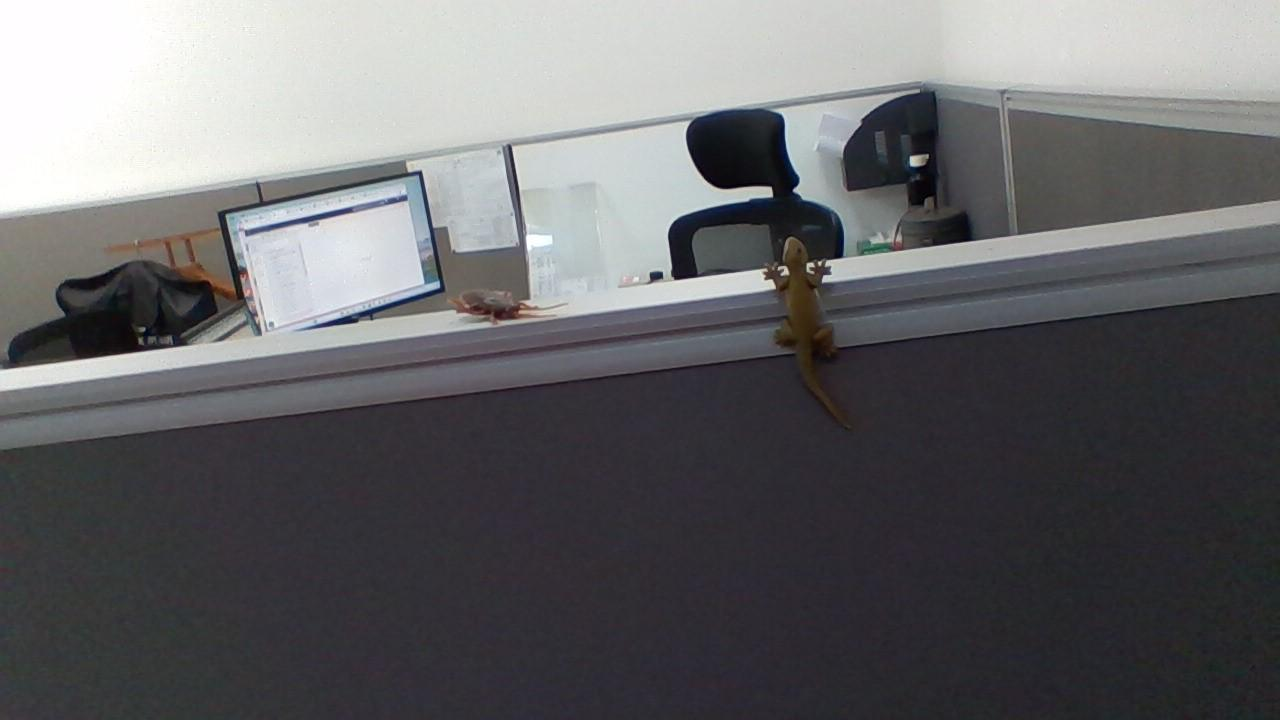cockroach: (426, 283, 592, 341)
lizard: (752, 219, 872, 444)
